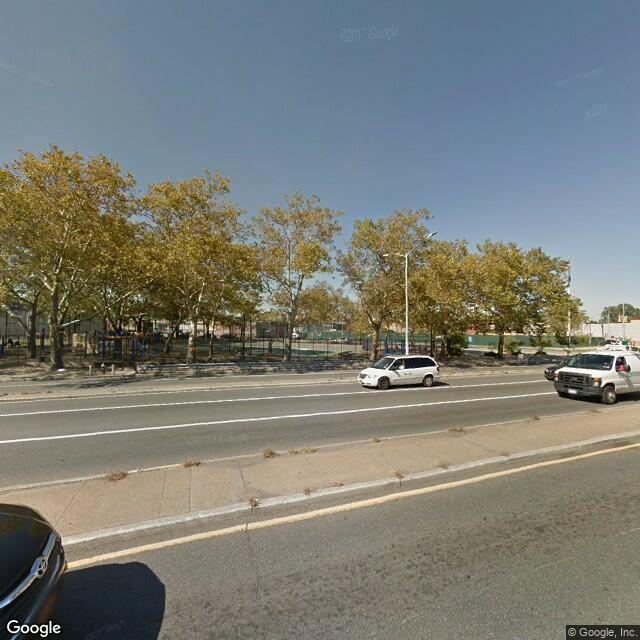litter: (56, 367, 66, 372)
